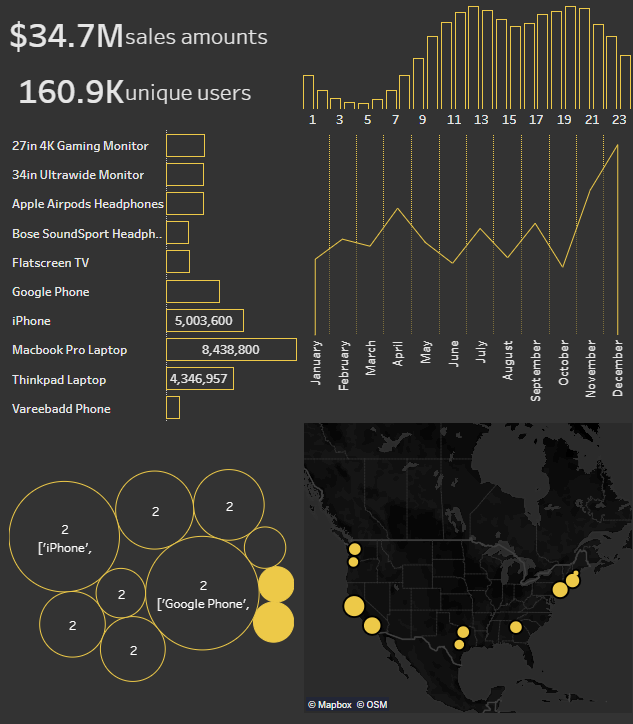

The page's visual inventory and layout, read from the dashboard file:
{"tool":"tableau","page":{"name":"sales_dashboard","canvas":[1000,1000],"units":"permille","ordinal":0},"visuals":[{"type":"worksheet","box":[0,0,1000,1000]},{"type":"worksheet","param":"vert","box":[12.3,13.5,975.4,973]},{"type":"worksheet","box":[12.3,13.5,975.4,973]},{"type":"worksheet","title":"total_sales","mark":"Automatic","box":[12.3,13.5,424.6,82.6]},{"type":"worksheet","title":"by_hour","mark":"Bar","rows":["Sales"],"cols":["Order Date"],"box":[489.2,13.5,496.9,165.3]},{"type":"worksheet","title":"unique_user","mark":"Automatic","box":[13.8,99.5,392.3,52.3]},{"type":"worksheet","title":"by_product","mark":"Automatic","rows":["Product"],"cols":["Sales"],"box":[12.3,170.3,466.2,430]},{"type":"worksheet","title":"by_month","mark":"Area","rows":["Sales"],"cols":["Order Date"],"box":[490.8,182.1,495.4,419.9]},{"type":"worksheet","title":"by_location","mark":"Automatic","box":[483.1,602,501.5,382.8]},{"type":"worksheet","title":"product_combination","mark":"Circle","box":[12.3,603.7,461.5,382.8]}]}

Visuals, with their boxes on the dashboard's canvas, which has no fixed pixel size, in thousandths of its width and height (x1, y1, x2, y2). These are canvas units, not pixel positions in the 633x724 screenshot, which may show the page scaled, cropped or inside an application window:
worksheet: select_region(0, 0, 1000, 1000)
worksheet: select_region(12, 14, 988, 986)
worksheet: select_region(12, 14, 988, 986)
"total_sales" worksheet: select_region(12, 14, 437, 96)
"by_hour" worksheet (Bar marks): select_region(489, 14, 986, 179)
"unique_user" worksheet: select_region(14, 100, 406, 152)
"by_product" worksheet: select_region(12, 170, 478, 600)
"by_month" worksheet (Area marks): select_region(491, 182, 986, 602)
"by_location" worksheet: select_region(483, 602, 985, 985)
"product_combination" worksheet (Circle marks): select_region(12, 604, 474, 986)
